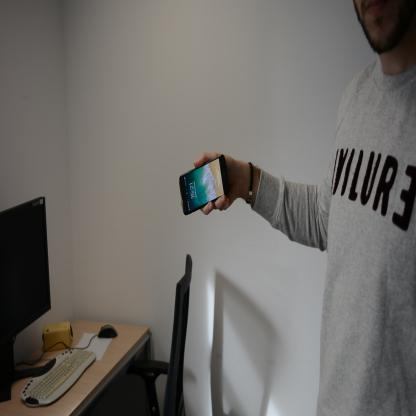smartphone: (178, 154, 230, 216)
